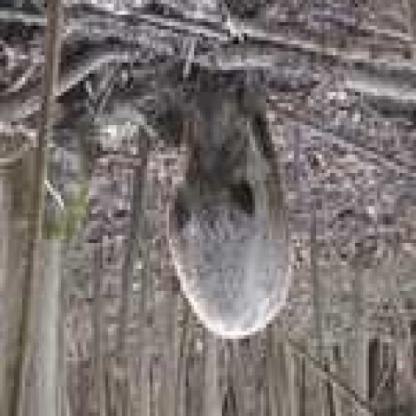boar: (124, 57, 320, 353)
